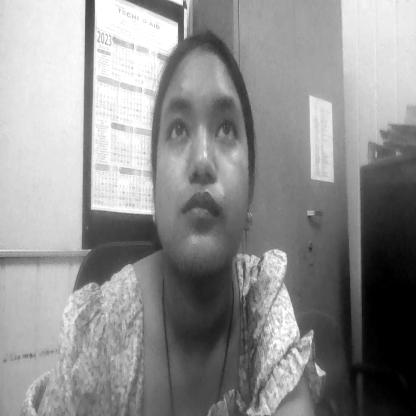Distracted: (162, 56, 239, 256)
